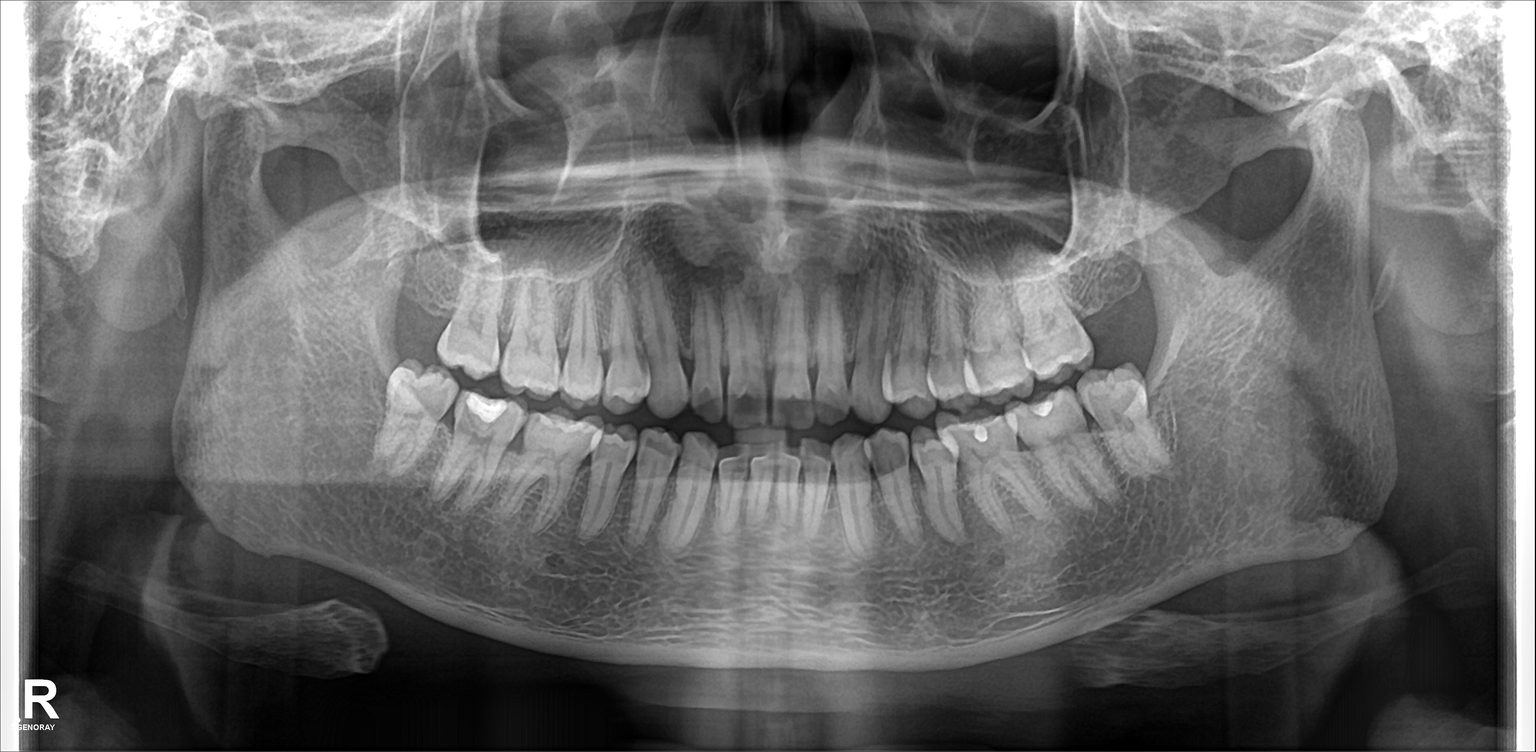Missing Tooth: (1076, 257, 1140, 350), (389, 262, 442, 362)
